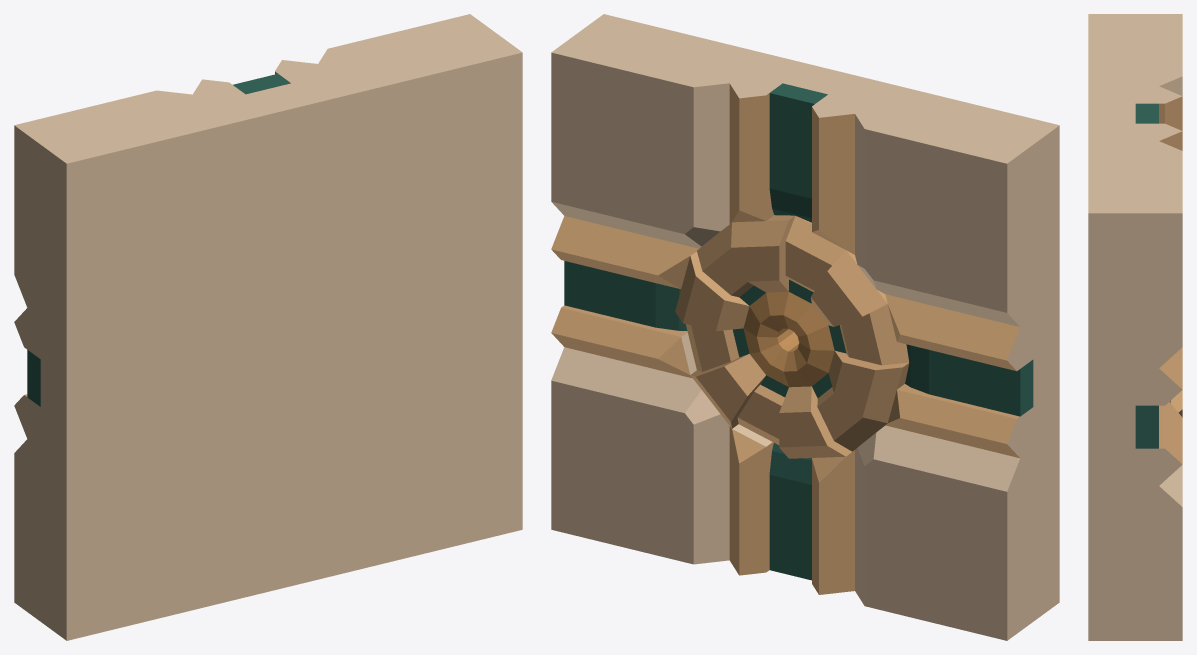
The model's file is Puzzle_Wall_Conduit_Emitter_Cross.fbx.
The picture shows the model from 3 angles, left to right: view 1: azimuth 30°, elevation 25°; view 2: azimuth 150°, elevation 25°; view 3: azimuth 270°, elevation 25°; orthographic projection. The views are drawn at different scales.
Parts seen in each view (by area): view 1: Sandstone_Trim.Sandstone_Trim.Sandstone_Trim.Sandstone_Trim.; view 2: Sandstone_Trim.Sandstone_Trim.Sandstone_Trim.Sandstone_Trim., Sandstone_5.Sandstone_5.Sandstone_5.Sandstone_5.Sandstone_5. (×2), Sandstone_6.Sandstone_6.Sandstone_6.Sandstone_6.Sandstone_6., object3, object2, object1, object4, object5; view 3: Sandstone_Trim.Sandstone_Trim.Sandstone_Trim.Sandstone_Trim., Sandstone_5.Sandstone_5.Sandstone_5.Sandstone_5.Sandstone_5. (×2), object1, object2.
Part boxes in pixels (bbox=[...]): Sandstone_Trim.Sandstone_Trim.Sandstone_Trim.Sandstone_Trim.: bbox=[14, 14, 522, 640]; Sandstone_Trim.Sandstone_Trim.Sandstone_Trim.Sandstone_Trim.: bbox=[551, 14, 1059, 640]; Sandstone_5.Sandstone_5.Sandstone_5.Sandstone_5.Sandstone_5. (×2): bbox=[551, 84, 1020, 594]; Sandstone_6.Sandstone_6.Sandstone_6.Sandstone_6.Sandstone_6.: bbox=[743, 292, 834, 387]; object3: bbox=[905, 344, 1033, 416]; object2: bbox=[769, 83, 827, 222]; object1: bbox=[564, 261, 687, 330]; object4: bbox=[769, 443, 811, 580]; object5: bbox=[733, 279, 846, 397]; Sandstone_Trim.Sandstone_Trim.Sandstone_Trim.Sandstone_Trim.: bbox=[1088, 14, 1182, 640]; Sandstone_5.Sandstone_5.Sandstone_5.Sandstone_5.Sandstone_5. (×2): bbox=[1159, 96, 1182, 463]; object1: bbox=[1135, 405, 1158, 448]; object2: bbox=[1135, 103, 1158, 123].
Size of the model in its own units: 1 by 1 by 0.2.
